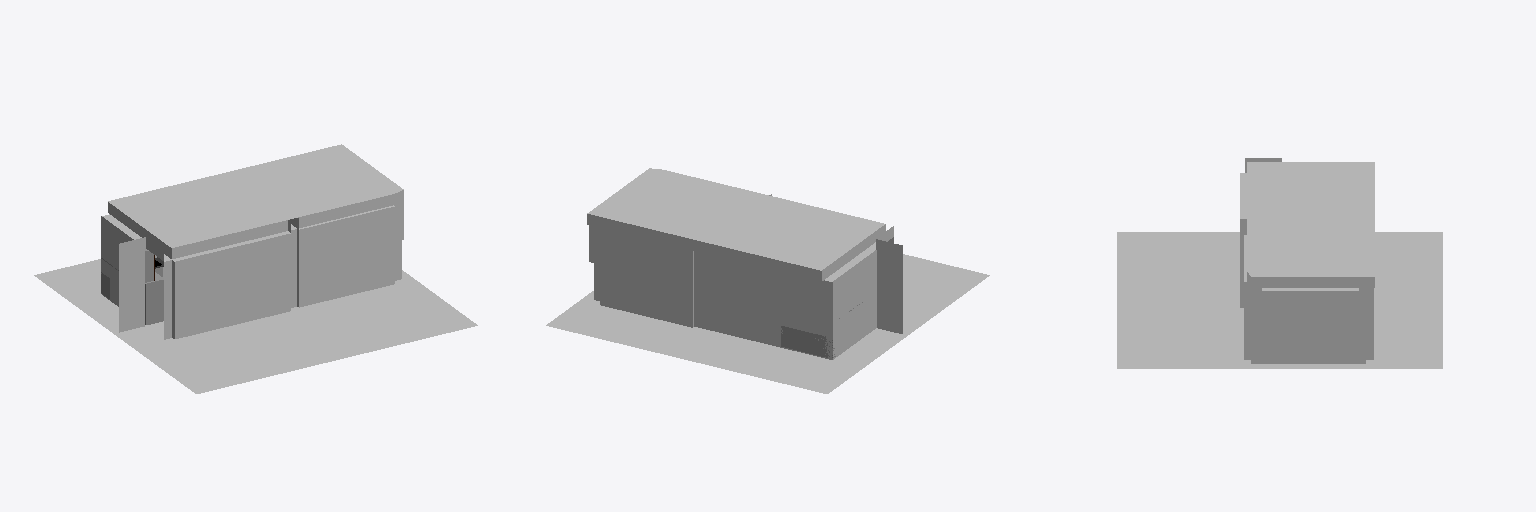
Rendered from Condo.obj.
3 renders of one model, left to right at view 1: azimuth 30°, elevation 25°; view 2: azimuth 150°, elevation 25°; view 3: azimuth 270°, elevation 25°, orthographic.
Parts seen in each view (by area): view 1: Vert.028_Vert.017, Plane.004_Plane.002, Vert.044_Vert.045; view 2: Vert.028_Vert.017, Plane.004_Plane.002, Sink_Sektion_style_2.019_Cube.149; view 3: Plane.004_Plane.002, Vert.028_Vert.017.
Part boxes in pixels (bbox=[...]): Vert.028_Vert.017: bbox=[101, 144, 403, 339]; Plane.004_Plane.002: bbox=[34, 259, 477, 393]; Vert.044_Vert.045: bbox=[145, 272, 163, 324]; Vert.028_Vert.017: bbox=[587, 168, 902, 359]; Plane.004_Plane.002: bbox=[546, 254, 989, 393]; Sink_Sektion_style_2.019_Cube.149: bbox=[801, 331, 835, 357]; Plane.004_Plane.002: bbox=[1117, 232, 1442, 368]; Vert.028_Vert.017: bbox=[1240, 158, 1374, 363].
Bounding box in the file's own units: 10.69 × 3.22 × 10.69.